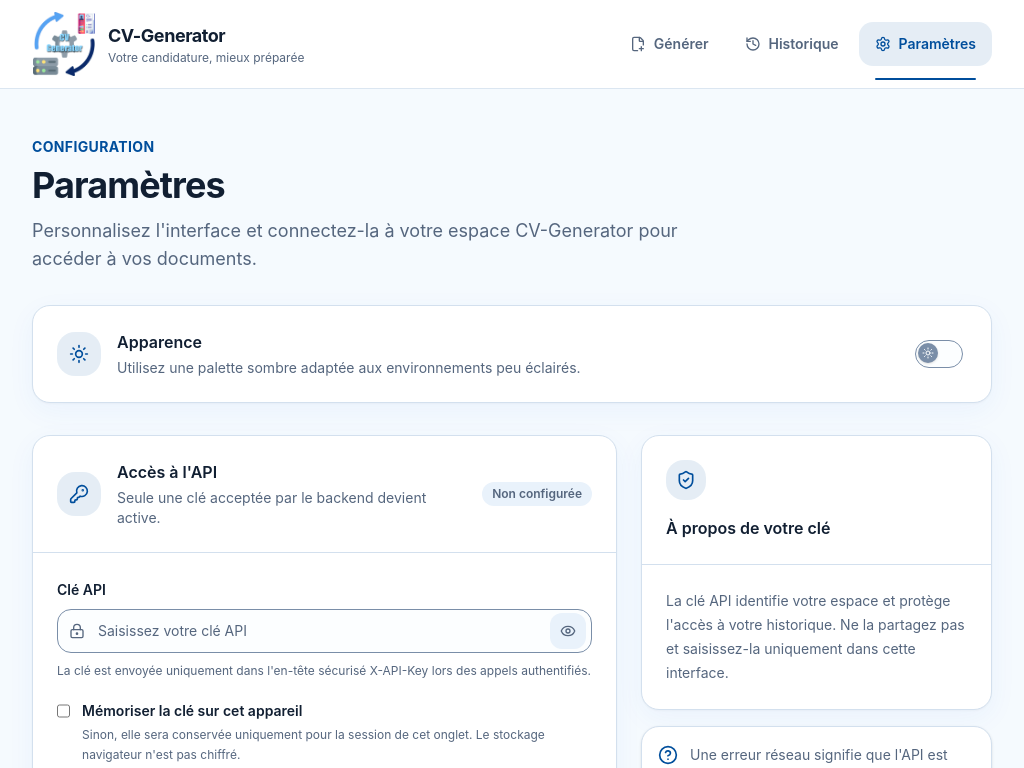
Scenario: configuration de la clé API › permet de saisir, afficher et masquer la clé
In the password field labelled "Clé API": (324, 631) [57,609,592,653], type "cle-test-secrete"
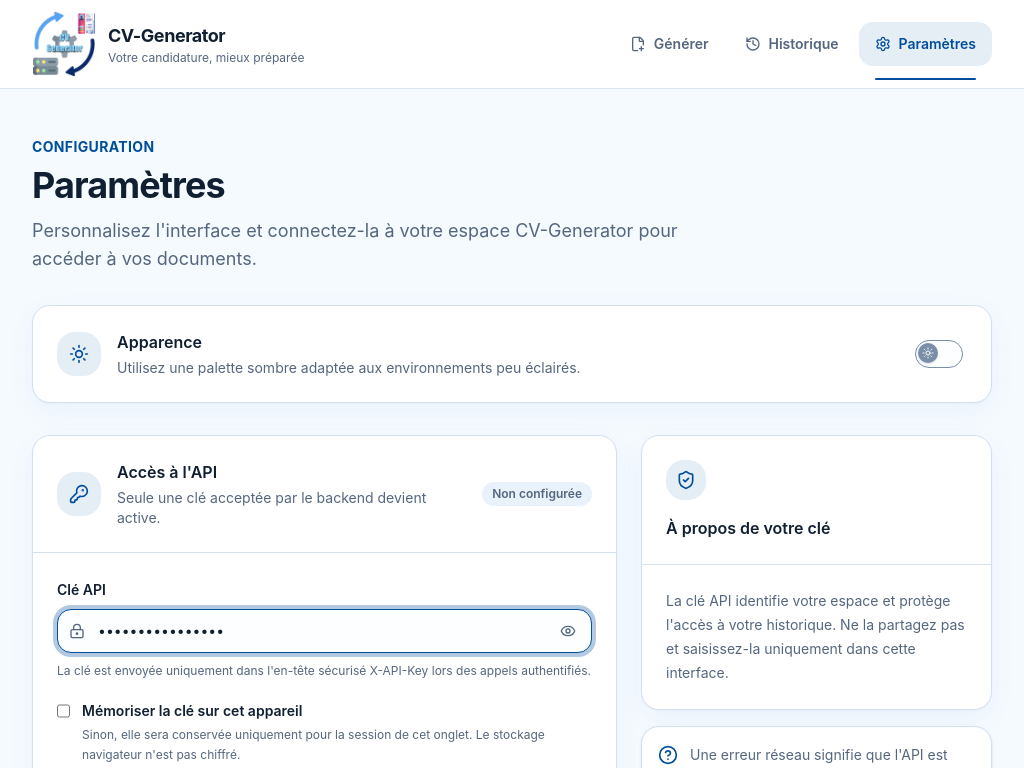
Click the button named "Afficher la clé API": (568, 631) [550,613,586,649]
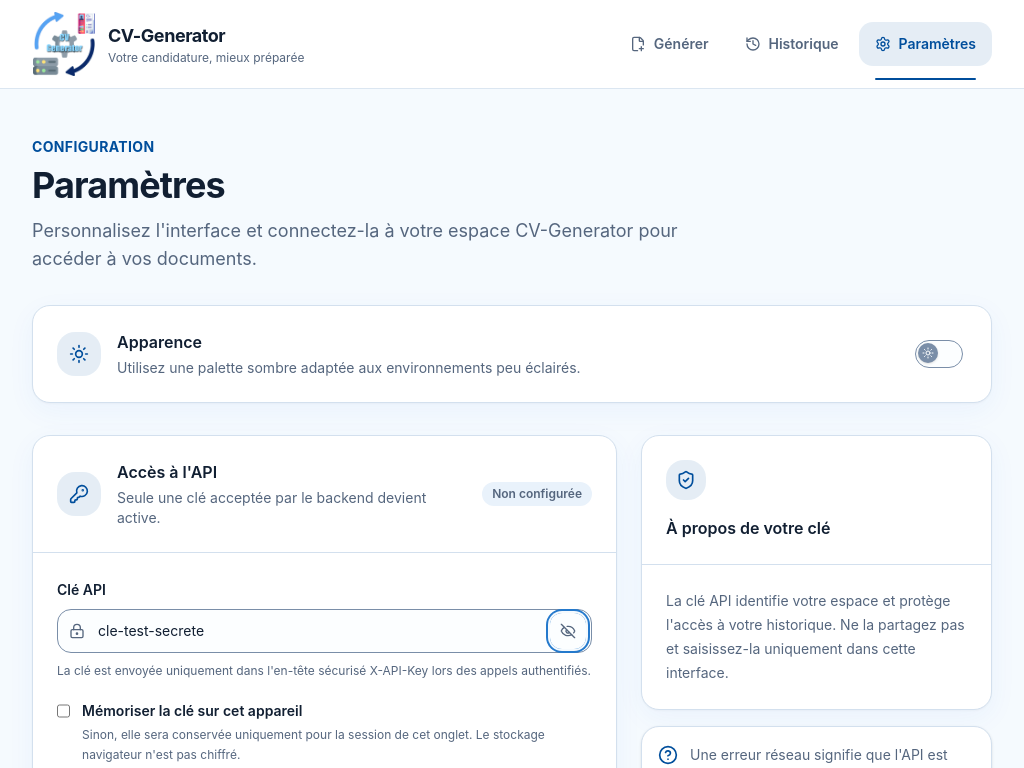
Check: the field labelled "Clé API" shows its text, box [57,609,592,653]
Click the button named "Masquer la clé API": (568, 631) [550,613,586,649]
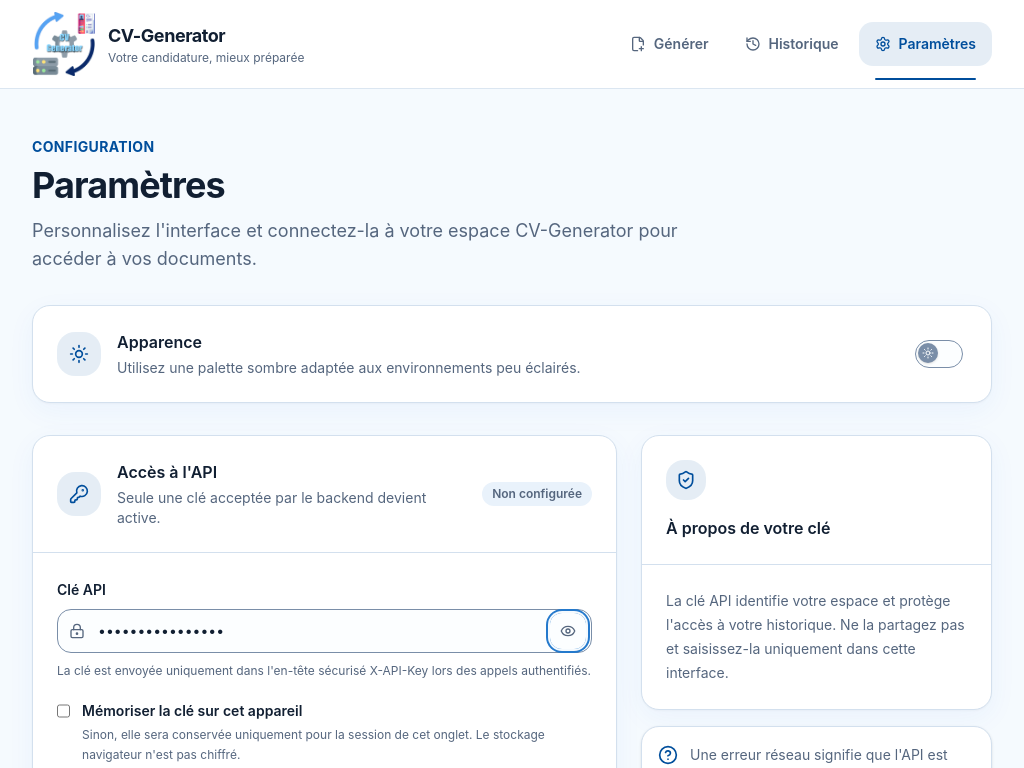
Check: the password field labelled "Clé API" hides its text, box [57,609,592,653]
